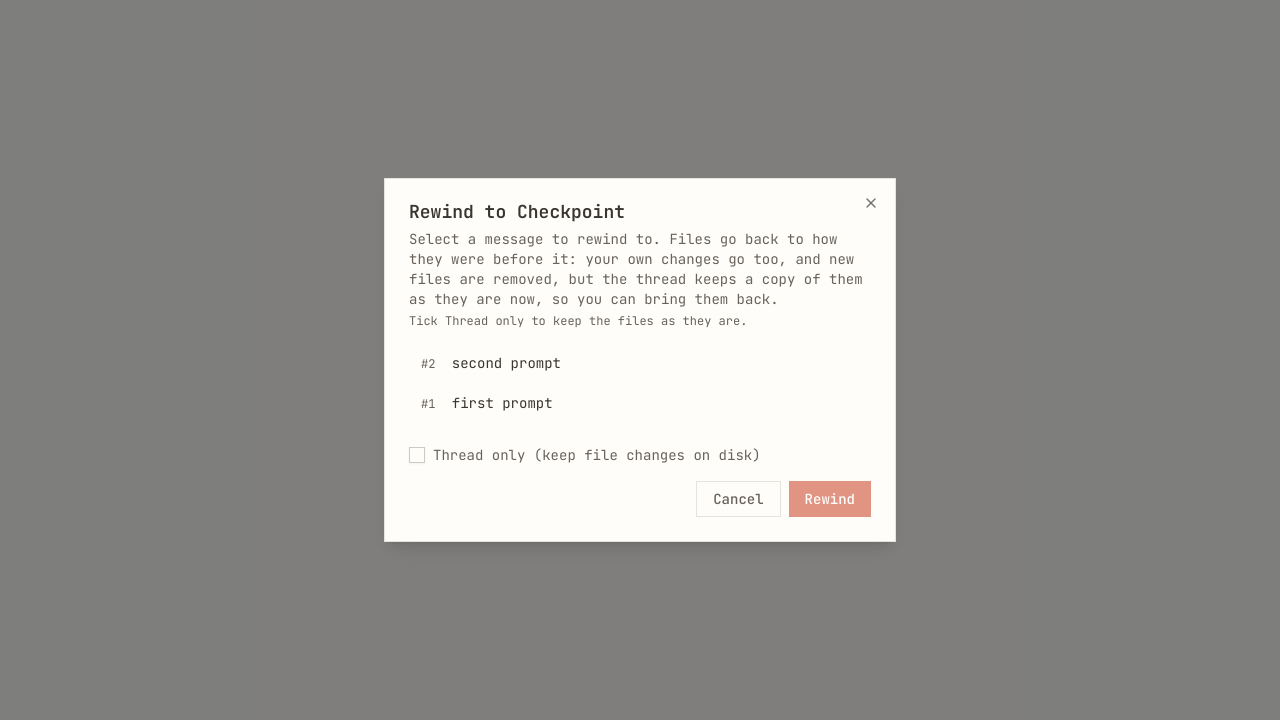
Scenario: RewindDialog › keeps the preview of the message picked last when an earlier one arrives after it
Click the button "#1 first prompt" at [498, 403], box [409,385,871,421]
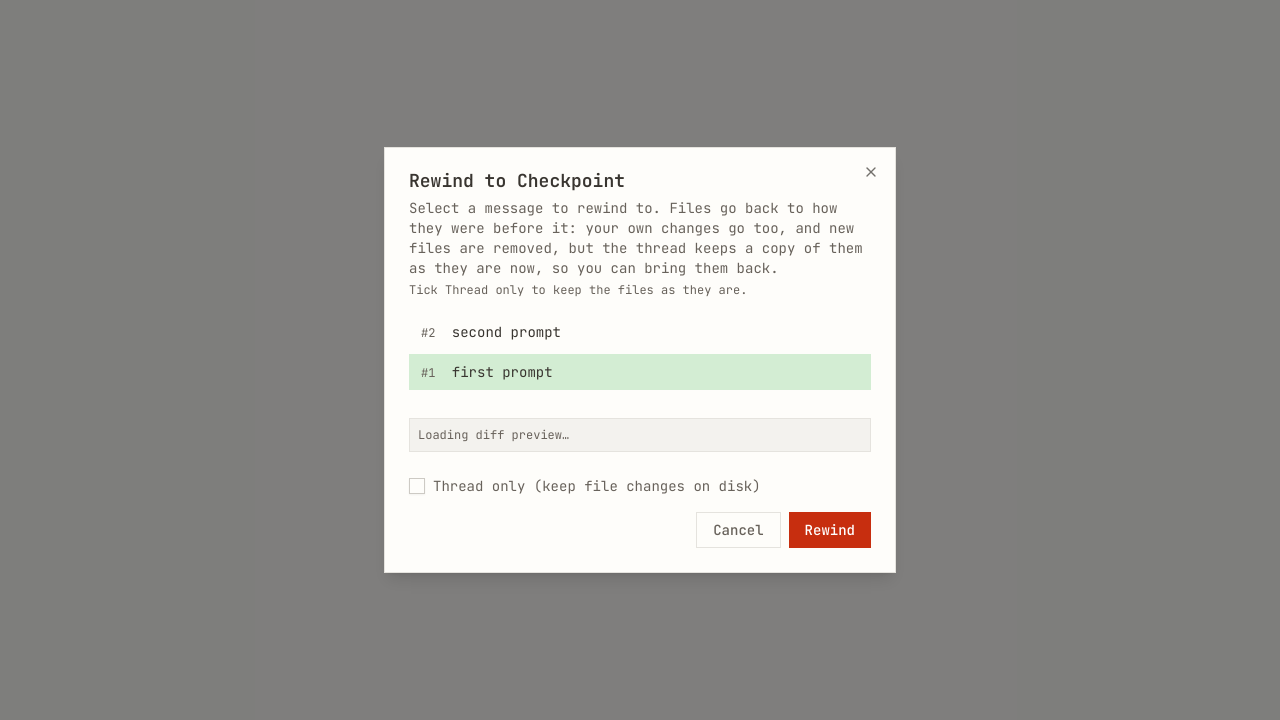
Click the button "#2 second prompt" at [502, 332], box [409,314,871,350]
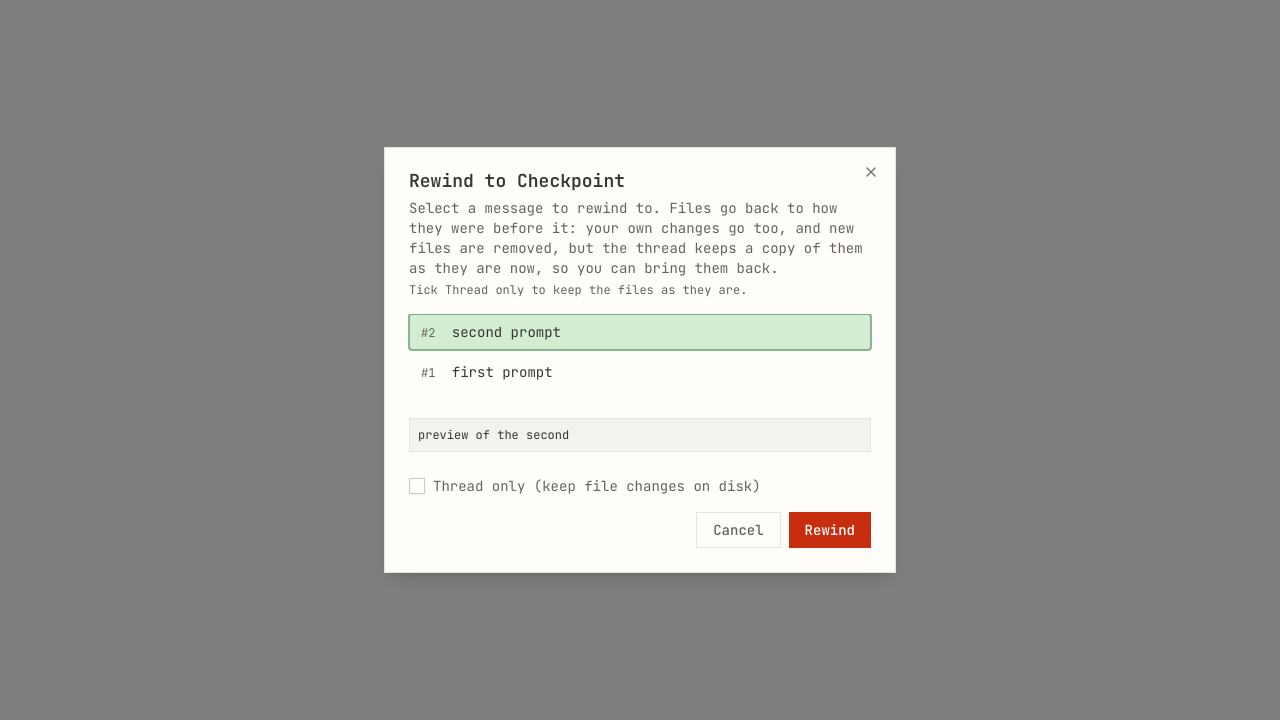
Expected: the text "preview of the second" is shown, [418,427,569,443]
